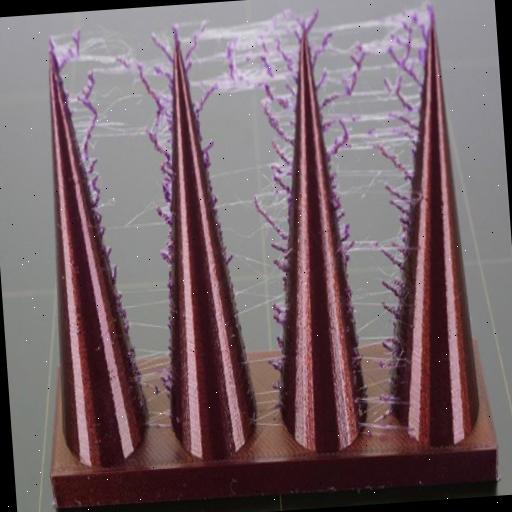stringing: (308, 2, 444, 187), (338, 188, 432, 418), (248, 112, 312, 382), (58, 21, 178, 146), (181, 10, 305, 106), (116, 280, 178, 426), (152, 152, 182, 270), (84, 160, 106, 226)
